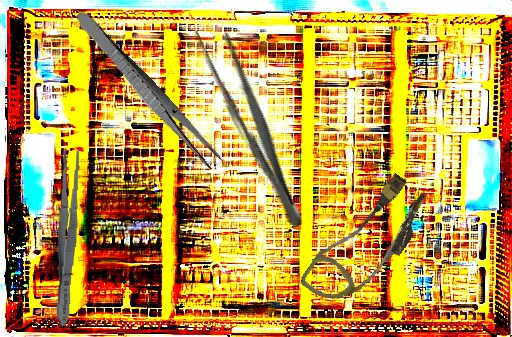Cannula: (298, 163, 437, 321)
Dressing Forceps: (189, 18, 315, 234), (68, 7, 227, 175), (51, 146, 83, 328)
